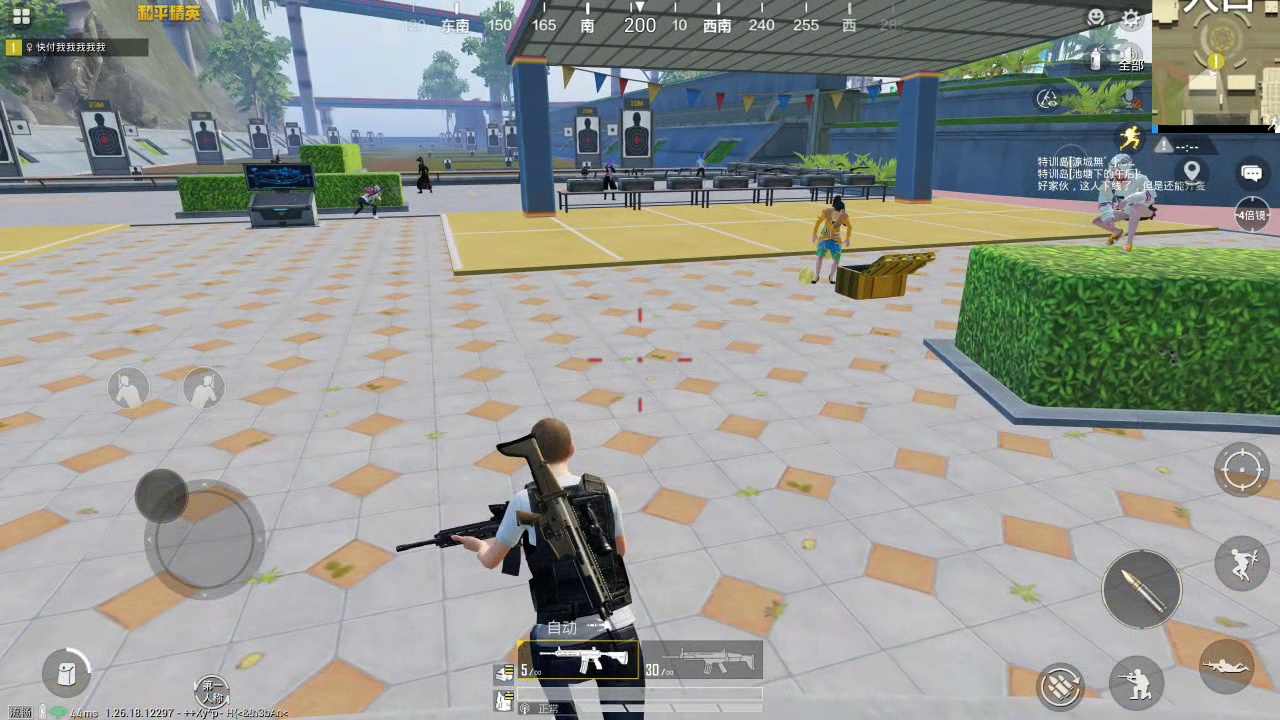enemy: (1099, 154, 1156, 250), (812, 196, 853, 285), (600, 159, 624, 199), (415, 157, 436, 196), (359, 183, 382, 218), (693, 154, 707, 178)
